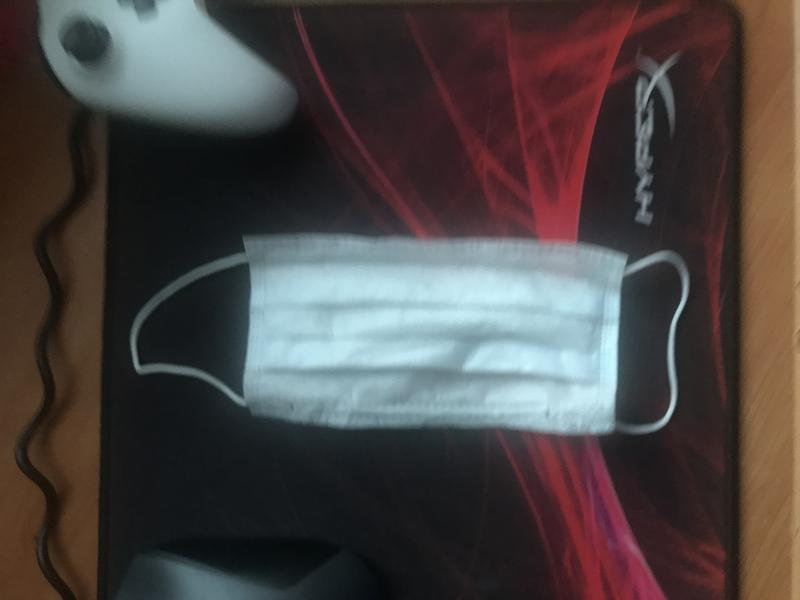medical_mask: (130, 237, 688, 435)
